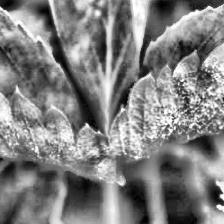Powdery Mildew Leaf: (0, 0, 126, 186), (107, 0, 224, 166), (40, 0, 156, 134)
